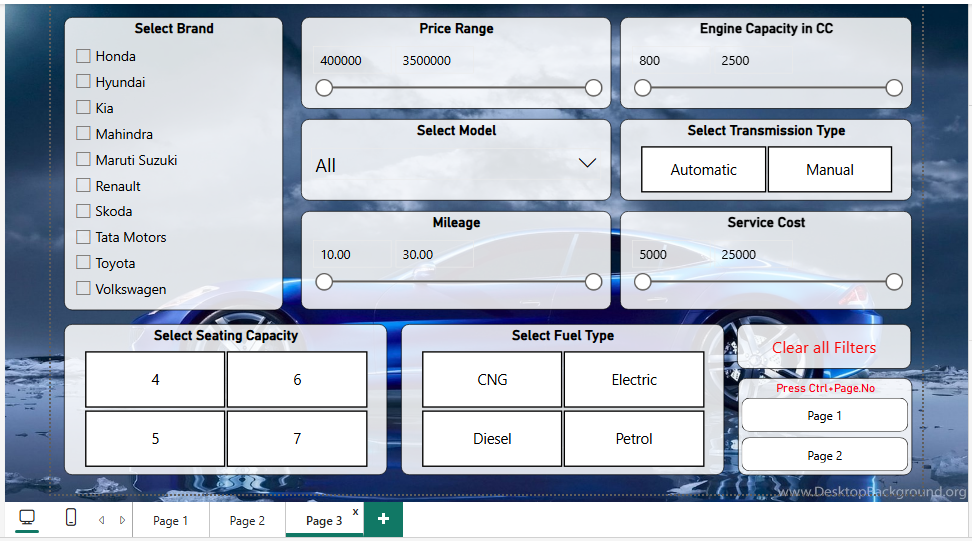

This screenshot's page, from the dashboard's own definition file:
{"tool":"powerbi","page":{"name":"Page 3","canvas":[1280,720],"ordinal":2},"visuals":[{"type":"slicer","title":"Select Fuel Type","fields":{"Values":["car_dataset_india_rawdata.Fuel_Type"]},"box":[514.3,470.2,474.6,221.9],"z":0},{"type":"slicer","title":"Select Brand","fields":{"Values":["car_dataset_india_rawdata.Brand"]},"box":[19.1,19.1,321.8,430.5],"z":1000},{"type":"slicer","title":"Select Transmission Type","fields":{"Values":["car_dataset_india_rawdata.Transmission"]},"box":[836.1,169,429.1,120.5],"z":2000},{"type":"slicer","title":"Select Seating Capacity","fields":{"Values":["car_dataset_india_rawdata.Seating_Capacity"]},"box":[19.1,470.2,474.6,221.9],"z":3000},{"type":"slicer","title":"Select Model","fields":{"Values":["car_dataset_india_rawdata.Model"]},"box":[367.3,169,455.5,120.5],"z":4000},{"type":"slicer","title":"Price Range","fields":{"Values":["car_dataset_india_rawdata.Price"]},"box":[367.3,19.1,455.5,135.2],"z":5000},{"type":"slicer","title":"Mileage","fields":{"Values":["car_dataset_india_rawdata.Mileage"]},"box":[367.3,304.2,455.5,145.5],"z":6000},{"type":"slicer","title":"Service Cost","fields":{"Values":["car_dataset_india_rawdata.Service_Cost"]},"box":[836.1,304.2,429.1,145.5],"z":7000},{"type":"slicer","title":"Engine Capacity in CC","fields":{"Values":["car_dataset_india_rawdata.Engine_CC"]},"box":[836.1,19.1,429.1,135.2],"z":8000},{"type":"pageNavigator","title":"Press Ctrl+Page.No","box":[1009.5,549.6,255.7,142.5],"z":9000},{"type":"actionButton","box":[1007.5,469.7,256.4,66.3],"z":11000}]}

Visuals, with their boxes on the page's 1280x720 design canvas (x1, y1, x2, y2). These are canvas units, not pixel positions in the 972x541 screenshot, which may show the page scaled, cropped or inside an application window:
"Select Fuel Type" slicer: <region>514, 470, 989, 692</region>
"Select Brand" slicer: <region>19, 19, 341, 450</region>
"Select Transmission Type" slicer: <region>836, 169, 1265, 290</region>
"Select Seating Capacity" slicer: <region>19, 470, 494, 692</region>
"Select Model" slicer: <region>367, 169, 823, 290</region>
"Price Range" slicer: <region>367, 19, 823, 154</region>
"Mileage" slicer: <region>367, 304, 823, 450</region>
"Service Cost" slicer: <region>836, 304, 1265, 450</region>
"Engine Capacity in CC" slicer: <region>836, 19, 1265, 154</region>
"Press Ctrl+Page.No" pageNavigator: <region>1010, 550, 1265, 692</region>
actionButton: <region>1008, 470, 1264, 536</region>
